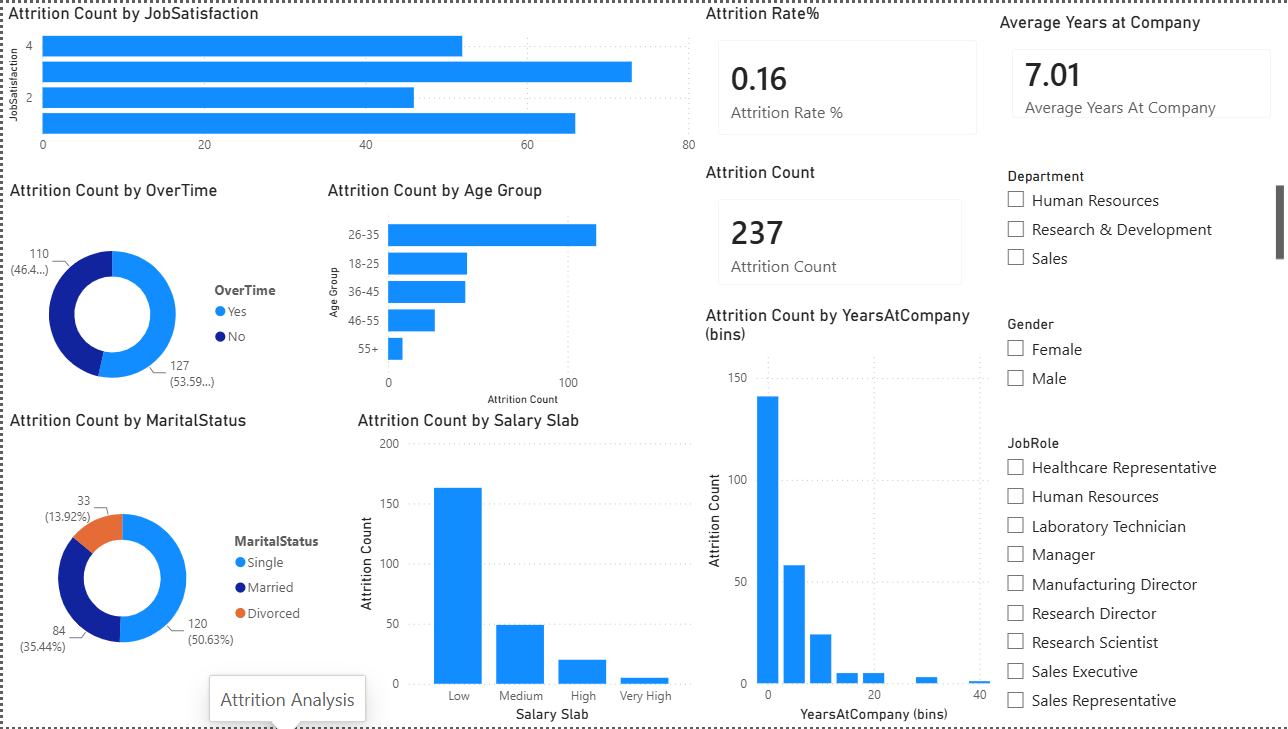

The page's visual inventory and layout, read from the dashboard file:
{"tool":"powerbi","page":{"name":"Attrition Analysis","canvas":[1280,720],"ordinal":1},"visuals":[{"type":"cardVisual","title":"Attrition Count","fields":{"Data":["HR-Employee.Attrition Count"]},"box":[693.5,158.7,277.8,139.8],"z":0},{"type":"cardVisual","title":"Attrition Rate%","fields":{"Data":["HR-Employee.Attrition Rate %"]},"box":[693.5,0,292.9,149.3],"z":1000},{"type":"cardVisual","title":"Average Years at Company","fields":{"Data":["HR-Employee.Average Years At Company"]},"box":[986.5,9.4,292.9,122.8],"z":2000},{"type":"clusteredBarChart","fields":{"Category":["HR-Employee.Age Group"],"Y":["HR-Employee.Attrition Count"]},"box":[317.5,175.7,347.7,228.7],"z":3000},{"type":"columnChart","fields":{"Category":["HR-Employee.Salary Slab"],"Y":["HR-Employee.Attrition Count"]},"box":[347.7,404.4,345.8,315.6],"z":4000},{"type":"donutChart","fields":{"Category":["HR-Employee.OverTime"],"Y":["HR-Employee.Attrition Count"]},"box":[1.9,175.7,292.9,247.6],"z":5000},{"type":"donutChart","fields":{"Category":["HR-Employee.MaritalStatus"],"Y":["HR-Employee.Attrition Count"]},"box":[1.9,404.4,332.6,315.6],"z":6000},{"type":"clusteredColumnChart","fields":{"Category":["HR-Employee.YearsAtCompany (bins)"],"Y":["HR-Employee.Attrition Count"]},"box":[693.5,300.5,292.9,419.5],"z":7000},{"type":"barChart","fields":{"Category":["HR-Employee.JobSatisfaction"],"Y":["HR-Employee.Attrition Count"]},"box":[0,0,693.5,158.7],"z":8000},{"type":"slicer","fields":{"Values":["HR-Employee.Department"]},"box":[986.5,158.7,292.9,113.4],"z":9000},{"type":"slicer","fields":{"Values":["HR-Employee.Gender"]},"box":[986.5,306.1,292.9,98.3],"z":10000},{"type":"slicer","fields":{"Values":["HR-Employee.JobRole"]},"box":[986.5,423.3,292.9,296.7],"z":11000}]}

Visuals, with their boxes in screenshot pixels (x1, y1, x2, y2), scaled from the page's 1280x720 canvas onto the 1288x729 screenshot:
"Attrition Count" cardVisual: 698, 161, 977, 302
"Attrition Rate%" cardVisual: 698, 0, 993, 151
"Average Years at Company" cardVisual: 993, 10, 1287, 134
clusteredBarChart - HR-Employee.Age Group x HR-Employee.Attrition Count: 319, 178, 669, 409
columnChart - HR-Employee.Salary Slab x HR-Employee.Attrition Count: 350, 409, 698, 728
donutChart - HR-Employee.OverTime x HR-Employee.Attrition Count: 2, 178, 297, 429
donutChart - HR-Employee.MaritalStatus x HR-Employee.Attrition Count: 2, 409, 337, 728
clusteredColumnChart - HR-Employee.YearsAtCompany (bins) x HR-Employee.Attrition Count: 698, 304, 993, 728
barChart - HR-Employee.JobSatisfaction x HR-Employee.Attrition Count: 0, 0, 698, 161
slicer - HR-Employee.Department: 993, 161, 1287, 276
slicer - HR-Employee.Gender: 993, 310, 1287, 409
slicer - HR-Employee.JobRole: 993, 429, 1287, 728
